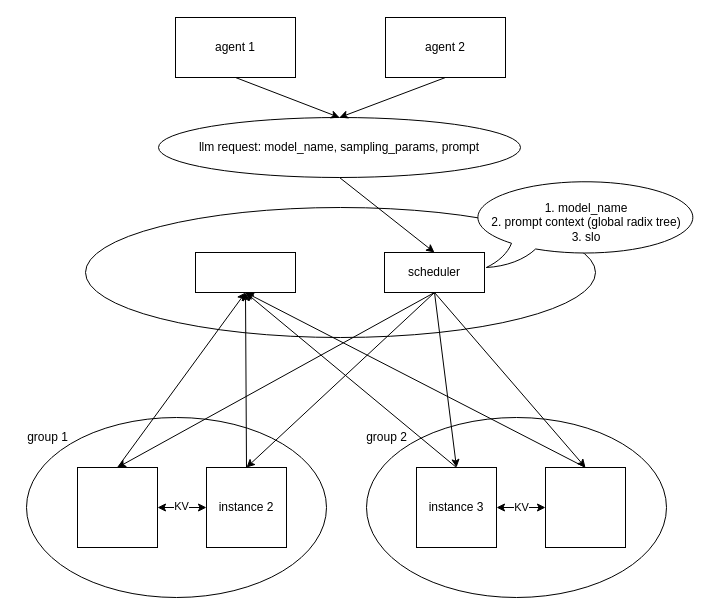
Image size: 724x615. Some labels were removed from this diagram. Each missing label, with the box of its shape:
controller: (194, 252, 296, 292)
instance 4: (544, 466, 626, 548)
instance1: (76, 466, 158, 548)
